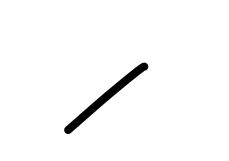t: (56, 51, 158, 148)
